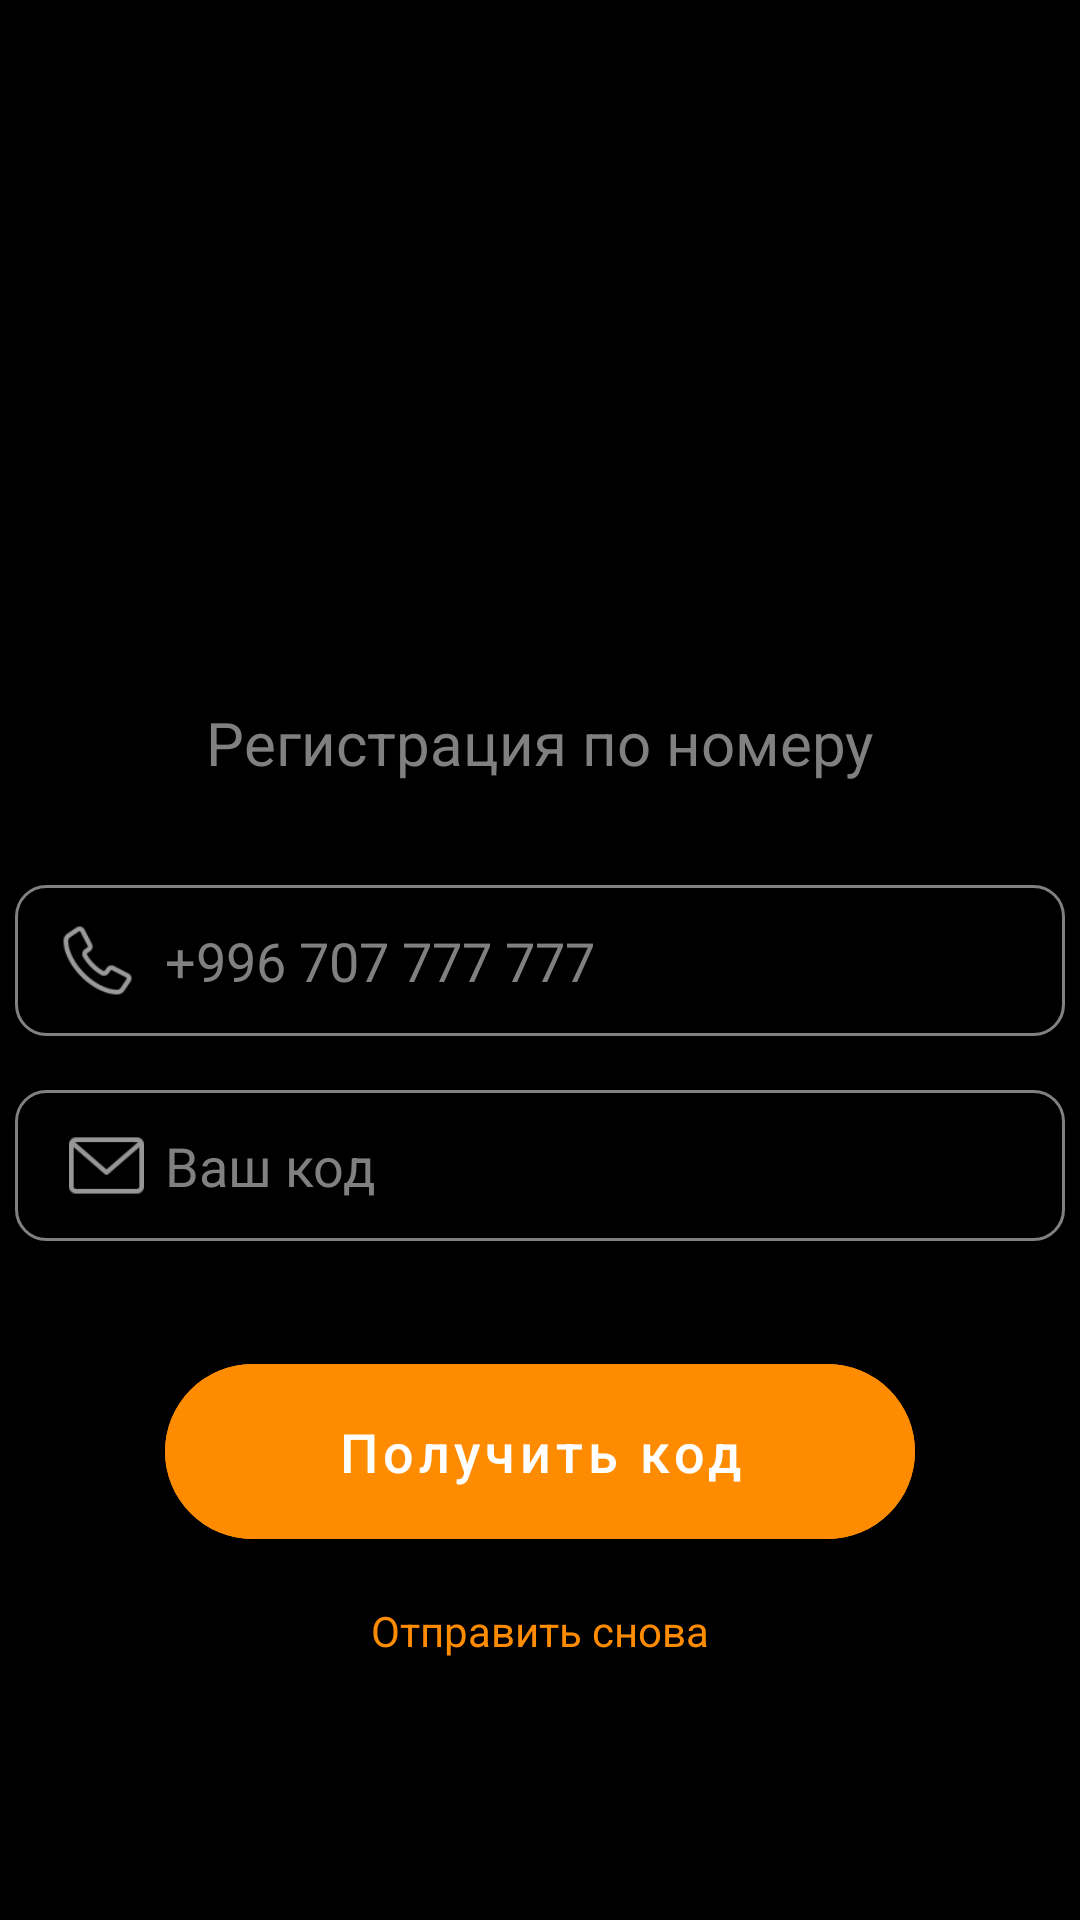

Locate icon controls on the screen. Image size 1080 x 1920, boxes as [x1, y1, x2, y2].
emailicon: [69, 1137, 144, 1194]
